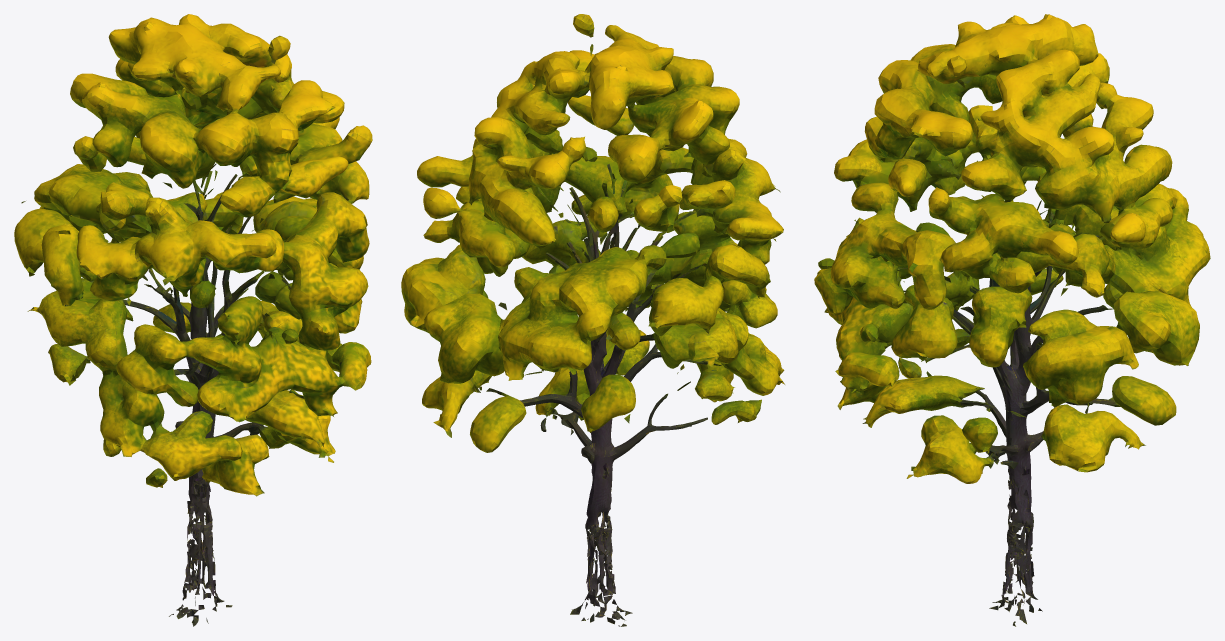
File: raw_meshy_model.glb
3 renders of one model, left to right at view 1: azimuth 30°, elevation 25°; view 2: azimuth 150°, elevation 25°; view 3: azimuth 270°, elevation 25°, orthographic. The views are drawn at different scales.
Size of the model in its own units: 1.09 by 1.86 by 1.15.
Materials: 1 (1 with a texture image).
